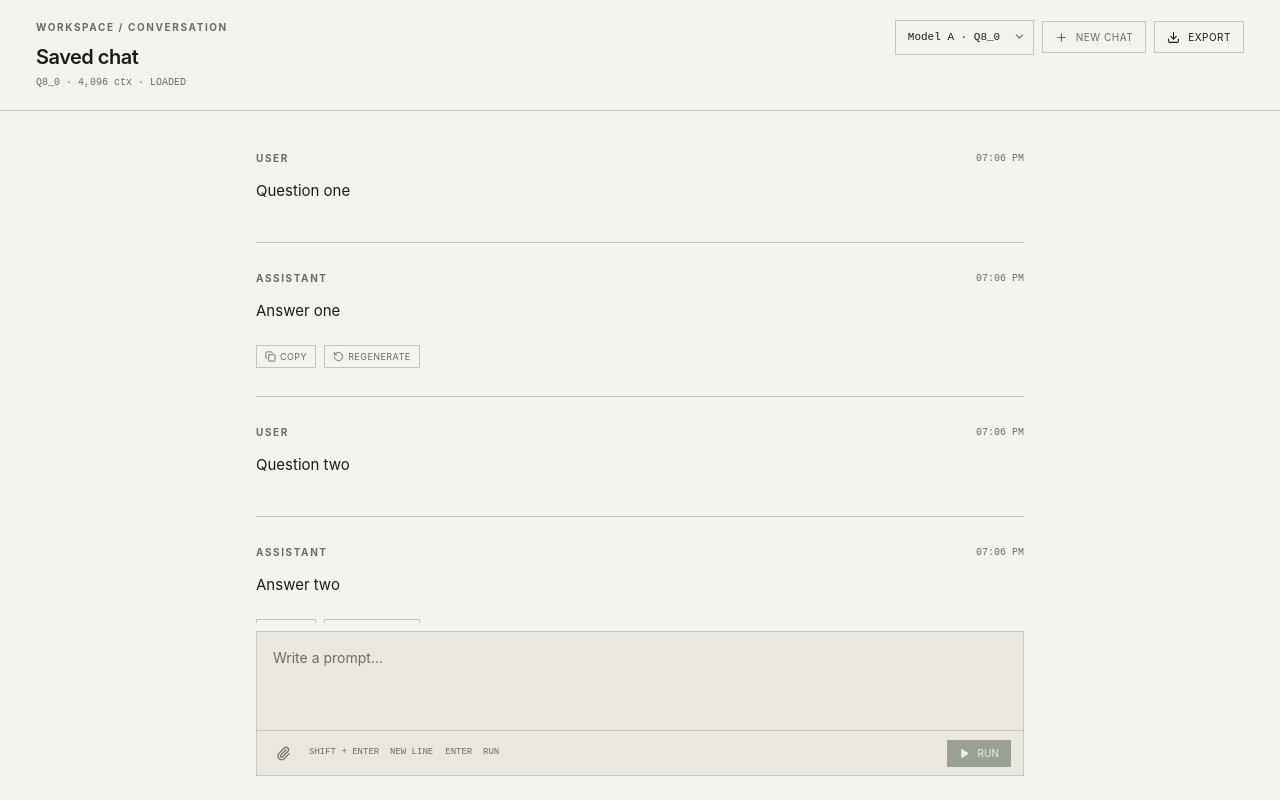
Test: ChatWorkspace settings wiring › regenerates the clicked assistant turn instead of the latest one
The image size is (1280, 800).
Check: the text box with placeholder "Write a prompt..." is shown, box [257, 632, 1023, 724]
Check: the text "Answer one" is shown, box [256, 301, 340, 320]
Note: Click the first answer, not the newest one.
Click the button "REGENERATE" at (372, 356), box [324, 344, 420, 368]
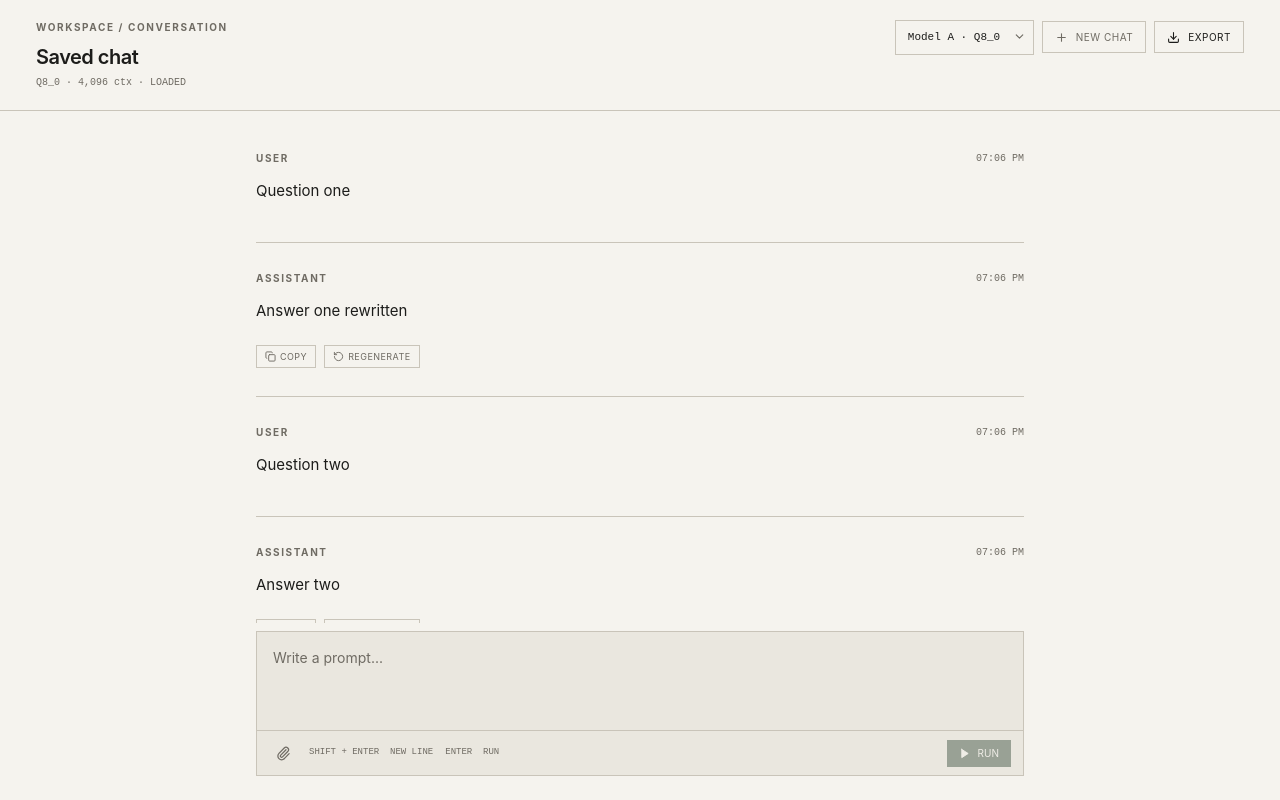
Check: the text "Question two" is shown, box [256, 455, 350, 474]
Check: the text "Answer one rewritten" is shown, box [256, 301, 407, 320]
